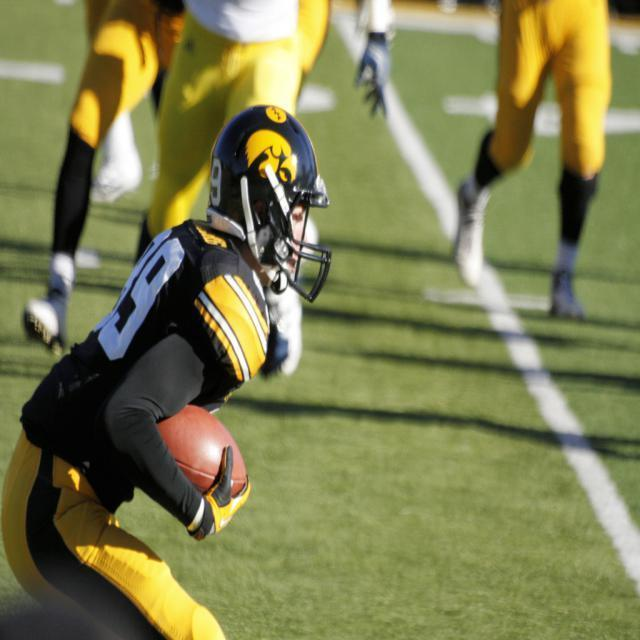ball: (155, 403, 250, 495)
